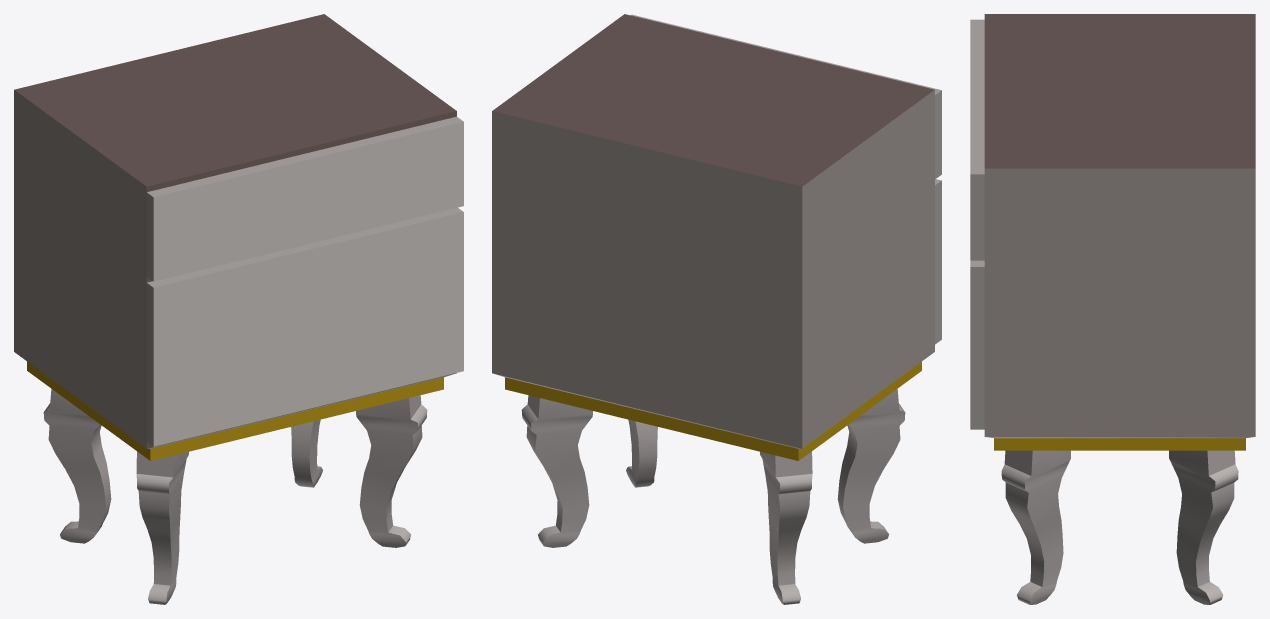
Rendered from SM_NightstandWhiteBrown_01.fbx.
The picture shows the model from 3 angles, left to right: view 1: azimuth 30°, elevation 25°; view 2: azimuth 150°, elevation 25°; view 3: azimuth 270°, elevation 25°; orthographic projection. The views are drawn at different scales.
Parts seen in each view (by area): view 1: SM_NightstandWhiteBrown_01; view 2: SM_NightstandWhiteBrown_01; view 3: SM_NightstandWhiteBrown_01.
Boxes of the visible parts, box(x1,y1,x2,y2) form: SM_NightstandWhiteBrown_01: box(14, 14, 463, 604); SM_NightstandWhiteBrown_01: box(492, 14, 941, 604); SM_NightstandWhiteBrown_01: box(970, 14, 1255, 604).
Bounding box in the file's own units: 49.06 × 66.79 × 38.21.
